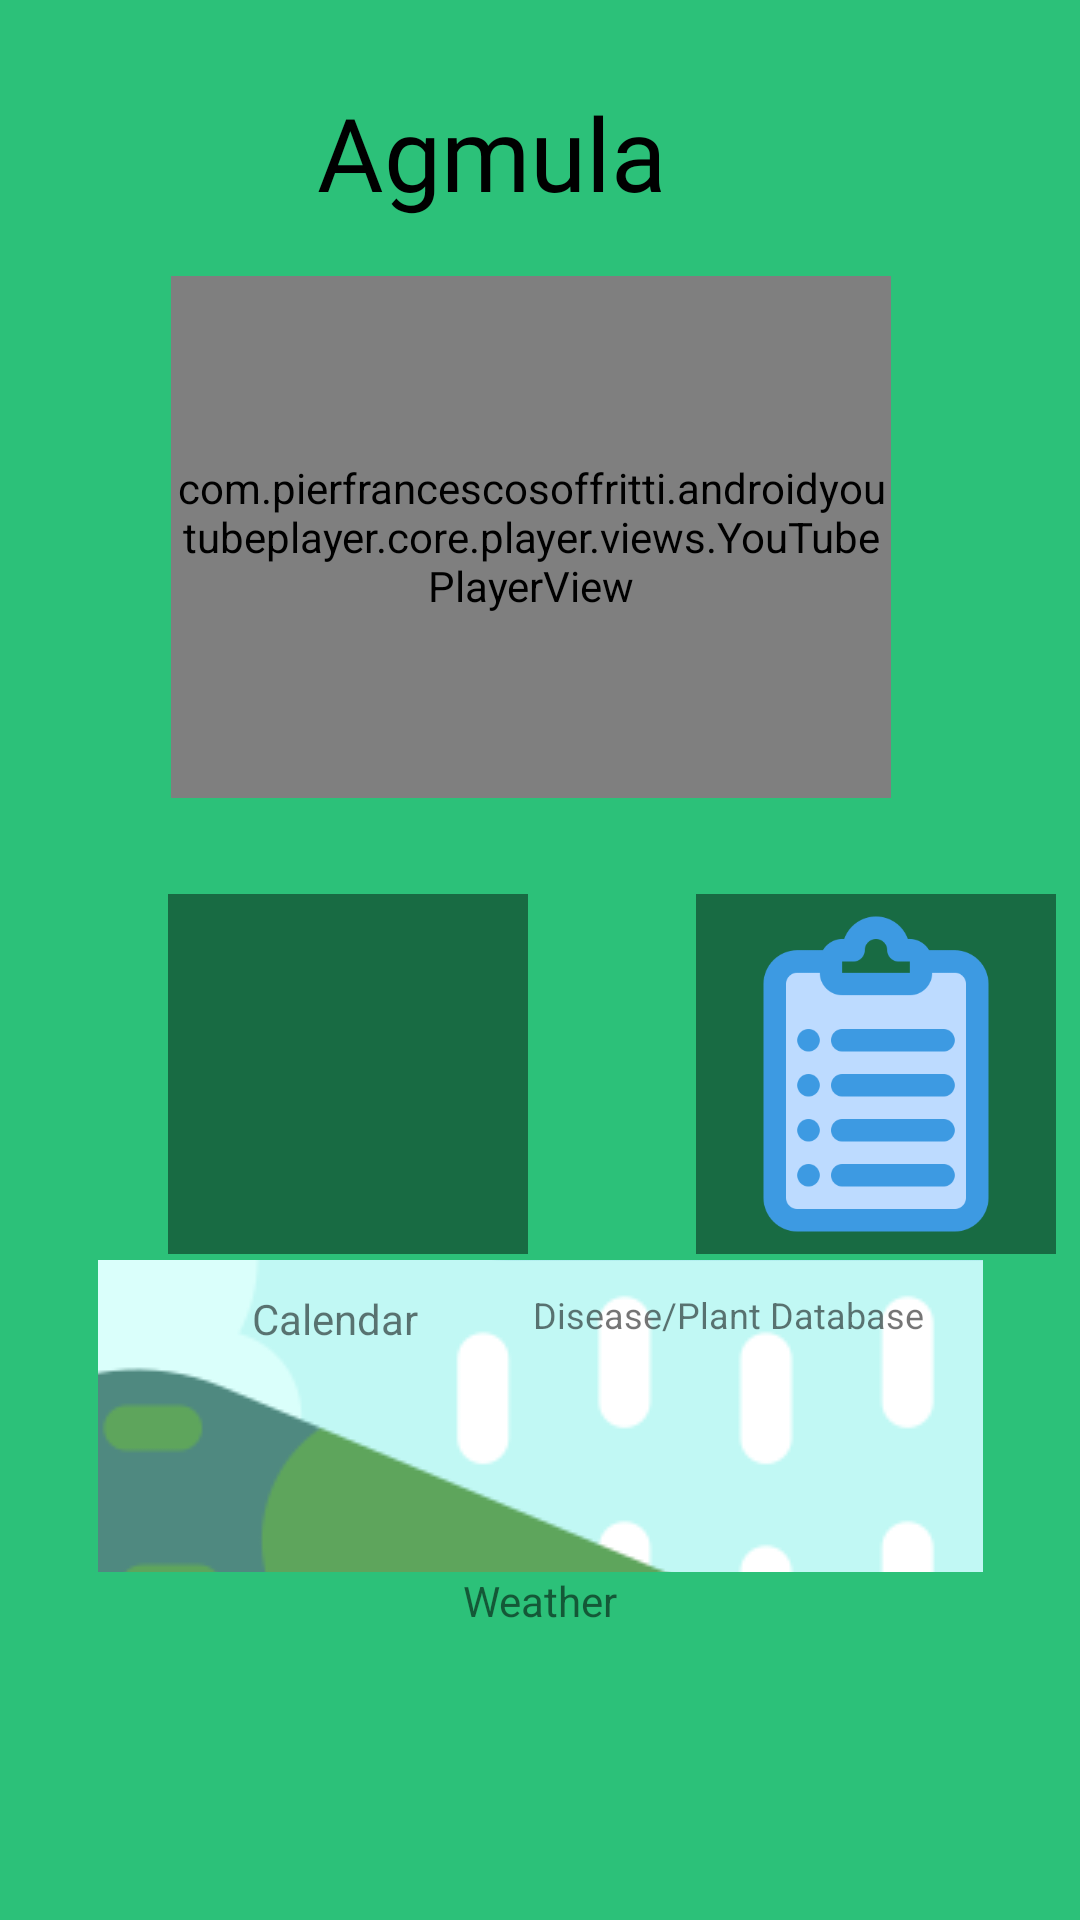

Icon click points for this 1080 x 1920 phone screenshot, format (x,y):
checkdb: (876,1074)
